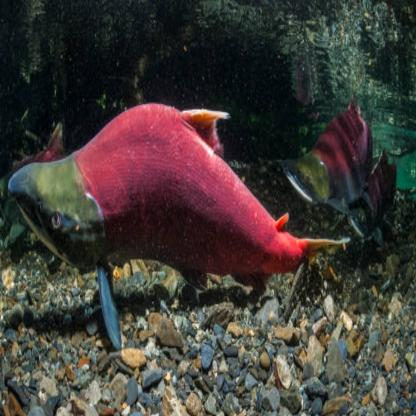sockeye: (11, 86, 289, 344), (293, 83, 368, 210)
